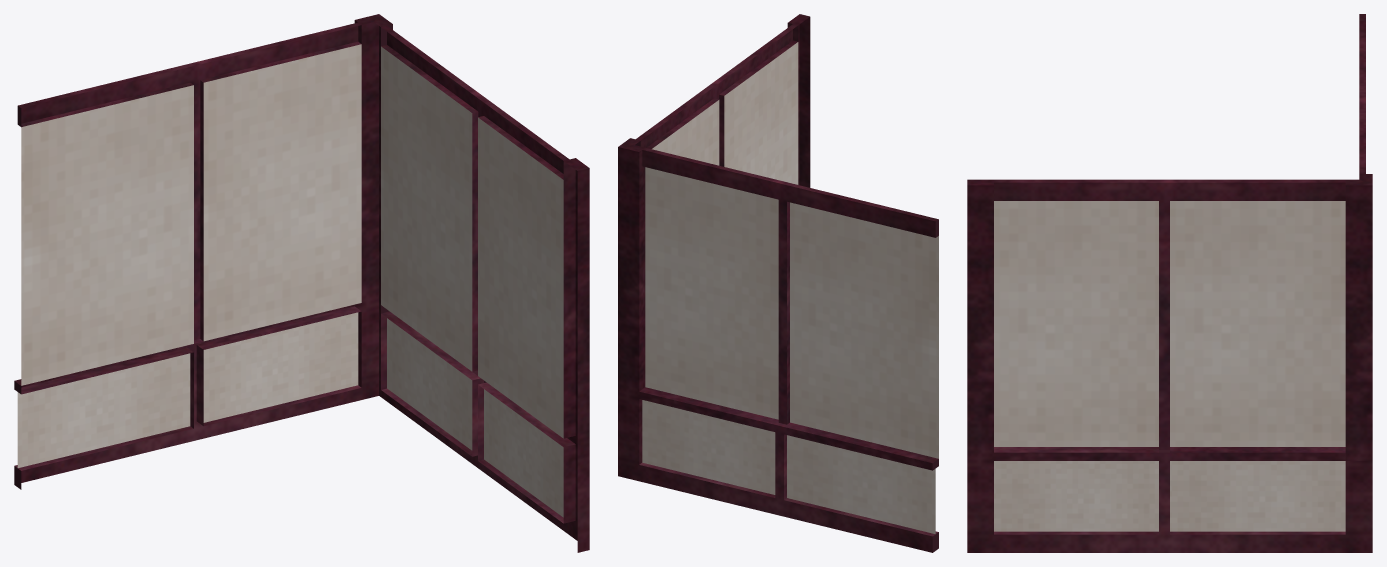
File: NNJ0510043.fbx
3 views of the same model, side by side, from view 1: azimuth 30°, elevation 25°; view 2: azimuth 150°, elevation 25°; view 3: azimuth 270°, elevation 25° (orthographic). The views are drawn at different scales.
Visible parts, largest first — view 1: smNNJ0510043; view 2: smNNJ0510043; view 3: smNNJ0510043.
Boxes of the visible parts, bbox=[...] form: smNNJ0510043: bbox=[14, 14, 589, 552]; smNNJ0510043: bbox=[618, 14, 938, 552]; smNNJ0510043: bbox=[967, 14, 1372, 552].
Size of the model in its own units: 276 by 276 by 276.
Materials: 1 (1 with a texture image).
